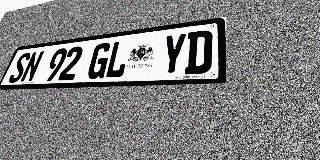2: (58, 46, 84, 81)
9: (43, 48, 69, 81)
D: (184, 29, 213, 75)
G: (85, 42, 113, 79)
L: (104, 40, 131, 78)
N: (19, 51, 45, 82)
S: (7, 52, 32, 83)
Y: (159, 33, 187, 76)
